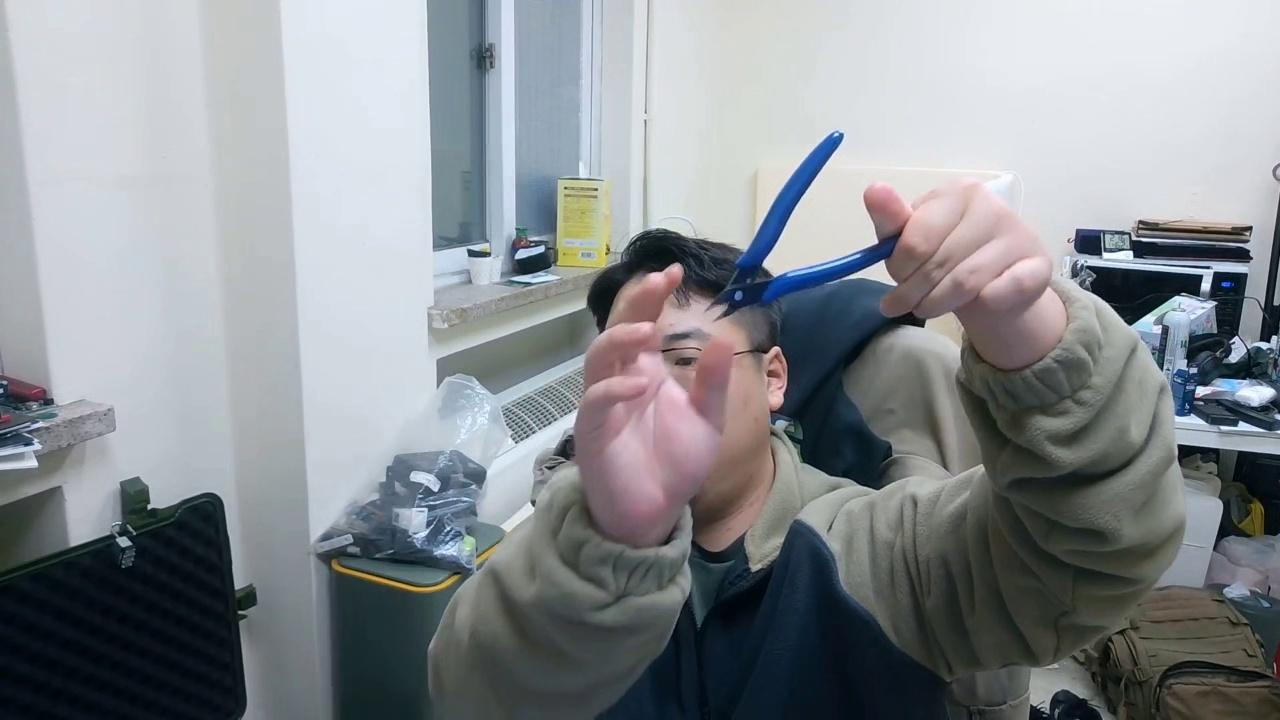blue_pliers: (710, 129, 904, 321)
